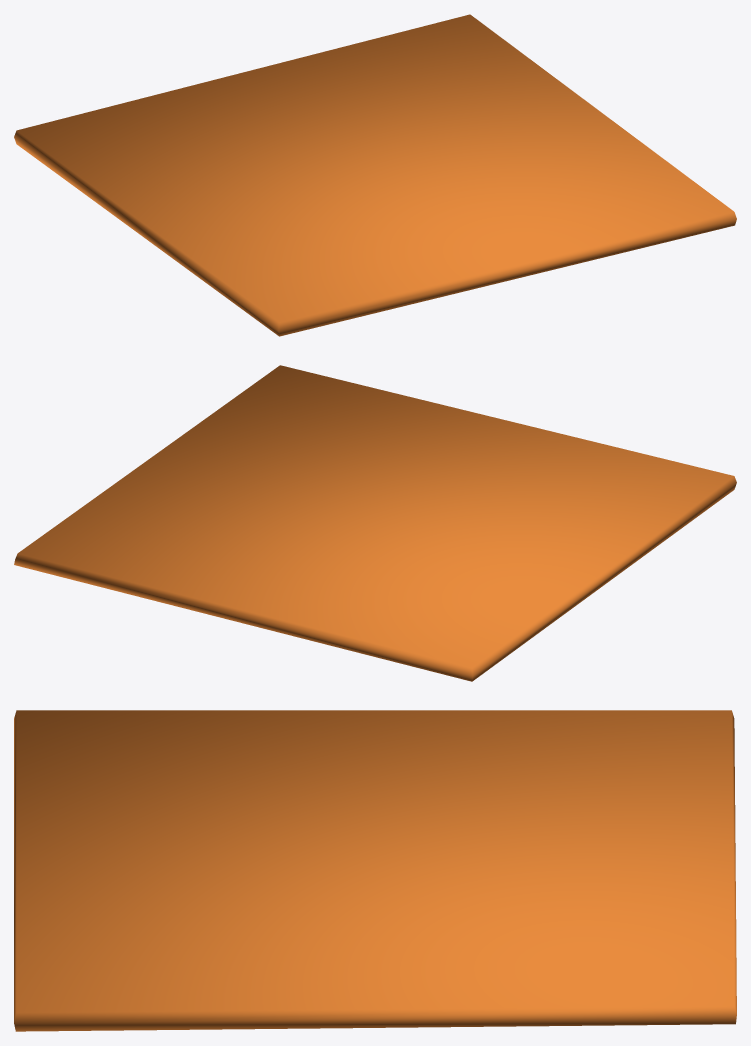
Rendered from flat-cheese.fbx.
The picture shows the model from 3 angles, top to bottom: view 1: azimuth 30°, elevation 25°; view 2: azimuth 150°, elevation 25°; view 3: azimuth 270°, elevation 25°; orthographic projection. The views are drawn at different scales.
Visible parts, largest first — view 1: Plane; view 2: Plane; view 3: Plane.
Part boxes in pixels (x1,y1,x2,y2): Plane: (14, 14, 736, 336); Plane: (14, 365, 736, 681); Plane: (14, 710, 736, 1031).
Size of the model in its own units: 231 by 8.82 by 232.
